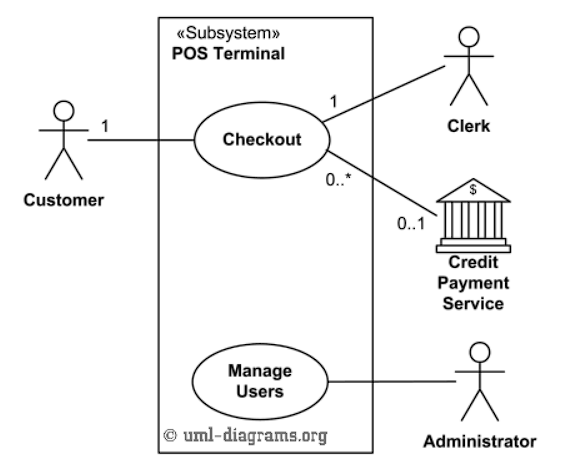actor: (436, 173, 516, 256), (34, 97, 88, 183), (452, 339, 506, 424), (443, 24, 493, 113)
association: (329, 151, 437, 216), (325, 64, 445, 120), (330, 373, 457, 391), (87, 134, 193, 146)
text: (168, 22, 289, 66), (431, 256, 518, 313), (180, 423, 334, 448), (225, 359, 299, 401), (418, 430, 547, 451), (219, 125, 309, 149), (19, 190, 110, 211), (442, 117, 498, 136), (394, 213, 426, 235), (324, 172, 352, 189), (97, 115, 116, 134), (327, 90, 343, 110)
use_case: (192, 99, 332, 181), (190, 341, 331, 422)
